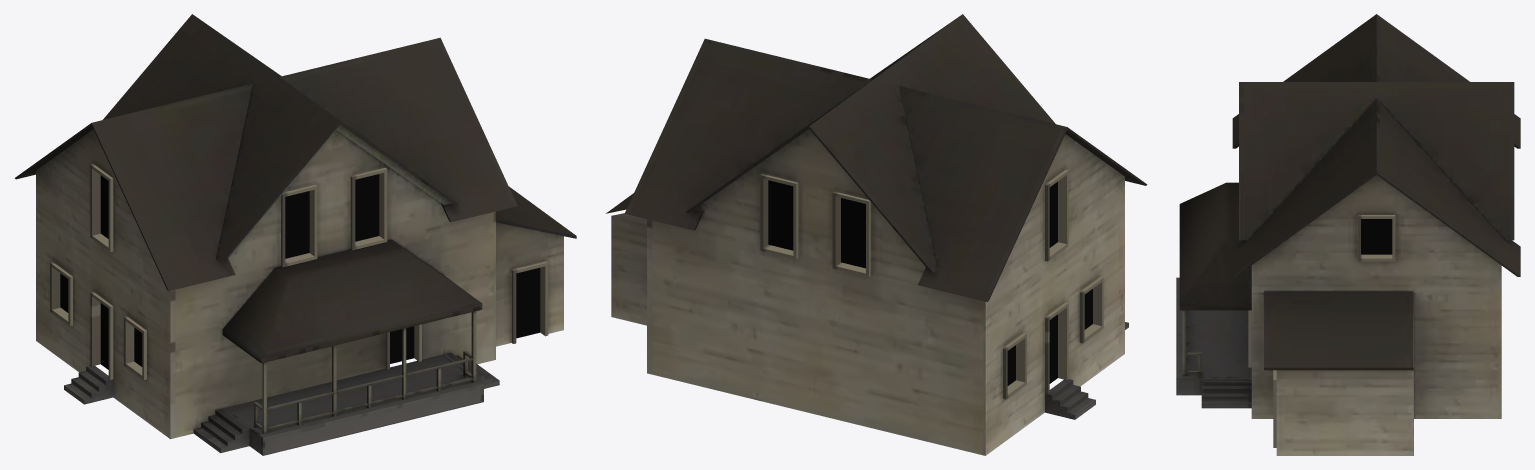
The picture shows the model from 3 angles, left to right: view 1: azimuth 30°, elevation 25°; view 2: azimuth 150°, elevation 25°; view 3: azimuth 270°, elevation 25°; orthographic projection. The views are drawn at different scales.
Visible parts, largest first — view 1: body0_model0_lod0_mesh0; view 2: body0_model0_lod0_mesh0; view 3: body0_model0_lod0_mesh0.
Boxes of the visible parts, x1,y1,x2,y2 form: body0_model0_lod0_mesh0: (15,14,576,455); body0_model0_lod0_mesh0: (606,14,1147,455); body0_model0_lod0_mesh0: (1176,14,1520,455).
Size of the model in its own units: 38 by 23.2 by 27.5.
1 material, 1 textured.
